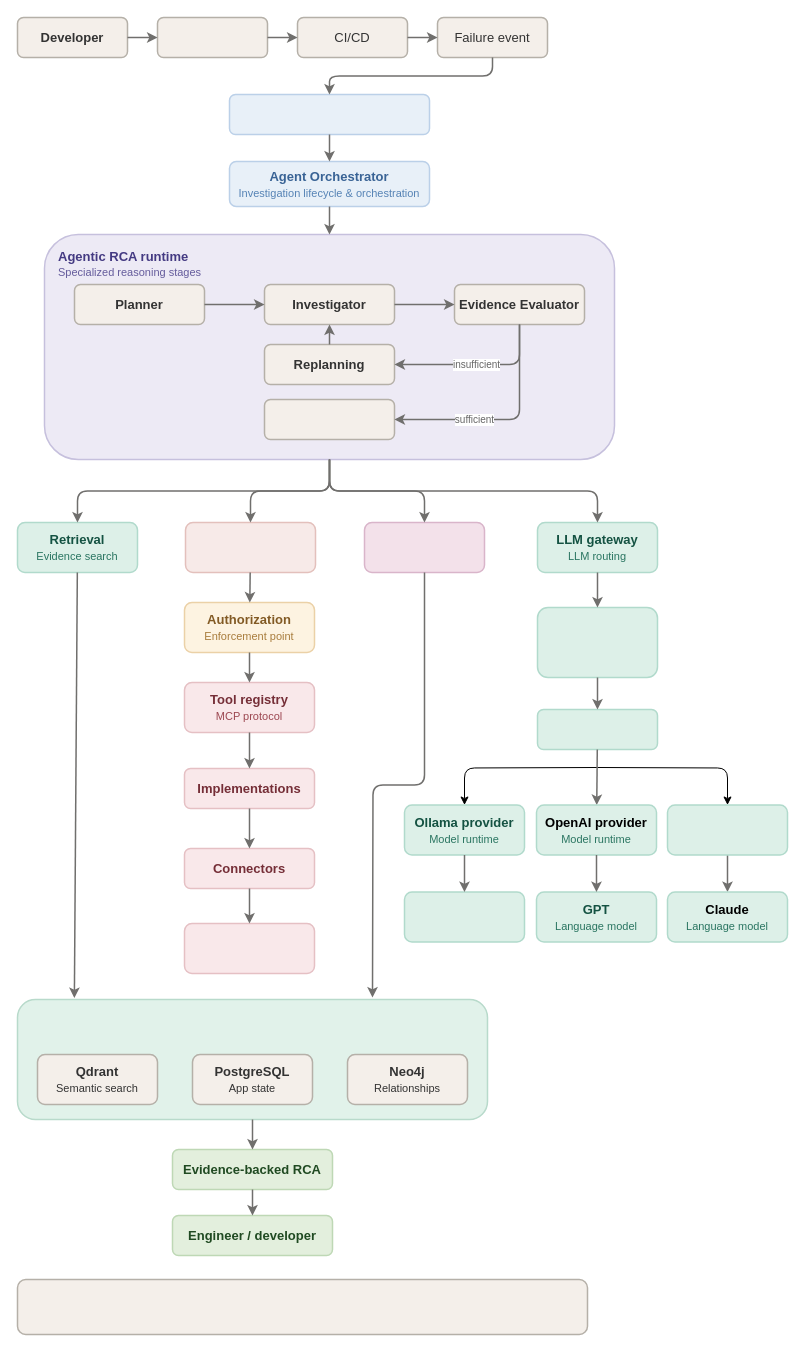
Image size: 806x1353. Some labels were removed from this diagram. Here are the shapes that lost their labels. From the top down, the box of each, then its label:
(156, 16, 268, 58): Git push / PR
(228, 93, 430, 135): API Gateway
(263, 398, 395, 440): RCA synthesis
(184, 521, 316, 573): Tool gateway Entry point
(363, 521, 485, 573): Memory Execution state
(536, 606, 658, 678): LLM router - Policy - Capability - Cost/ Latency
(536, 708, 658, 750): Provider registry
(666, 804, 788, 855): Anthropic provider Model runtime
(403, 891, 525, 942): Qwen Language model
(183, 922, 315, 974): External systems GitHub, CI-CD, Jira, logs
(16, 998, 488, 1120): Knowledge and state stores Shared retrieval and persistence layer
(16, 1278, 588, 1335): Platform control plane Governs retrieval, tools, memory, and model access
